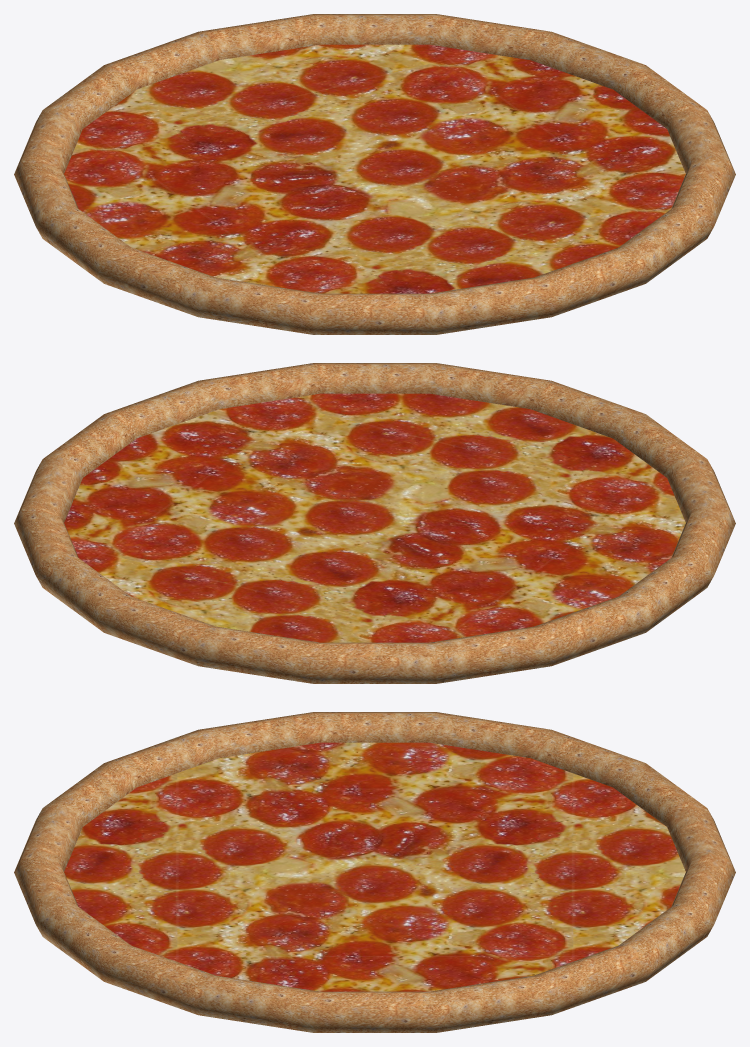
File: pizza2.FBX
The picture shows the model from 3 angles, top to bottom: view 1: azimuth 30°, elevation 25°; view 2: azimuth 150°, elevation 25°; view 3: azimuth 270°, elevation 25°; orthographic projection.
Parts seen in each view (by area): view 1: Circle001, Torus001; view 2: Circle001, Torus001; view 3: Circle001, Torus001.
Boxes of the visible parts, x1=… form: Circle001: x1=64, y1=44, x2=685, y2=293; Torus001: x1=14, y1=14, x2=735, y2=334; Circle001: x1=64, y1=393, x2=685, y2=642; Torus001: x1=14, y1=363, x2=735, y2=683; Circle001: x1=64, y1=742, x2=685, y2=991; Torus001: x1=14, y1=712, x2=735, y2=1032.
Bounding box in the file's own units: 12.09 × 0.7055 × 12.27.
